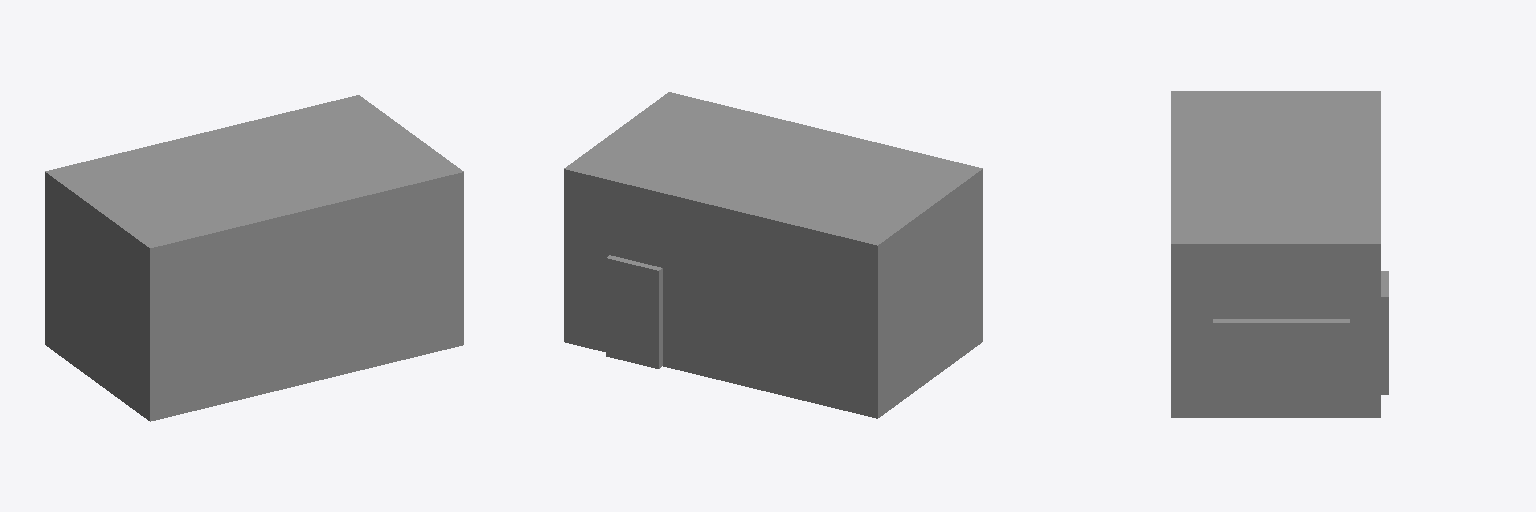
The model's file is RAUM.obj.
The picture shows the model from 3 angles: view 1: azimuth 30°, elevation 25°; view 2: azimuth 150°, elevation 25°; view 3: azimuth 270°, elevation 25°; orthographic projection.
Parts seen in each view (by area): view 1: Cube_Cube.003; view 2: Cube_Cube.003; view 3: Cube_Cube.003.
Part boxes in pixels (left/top/right/bottom): Cube_Cube.003: left=45, top=95, right=463, bottom=421; Cube_Cube.003: left=564, top=92, right=982, bottom=418; Cube_Cube.003: left=1171, top=91, right=1388, bottom=417.
Size of the model in its own units: 10.34 by 5.33 by 6.09.